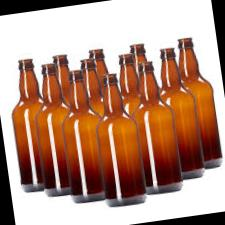glass: (86, 64, 150, 212), (51, 64, 114, 207), (172, 31, 225, 175), (153, 38, 204, 180)
